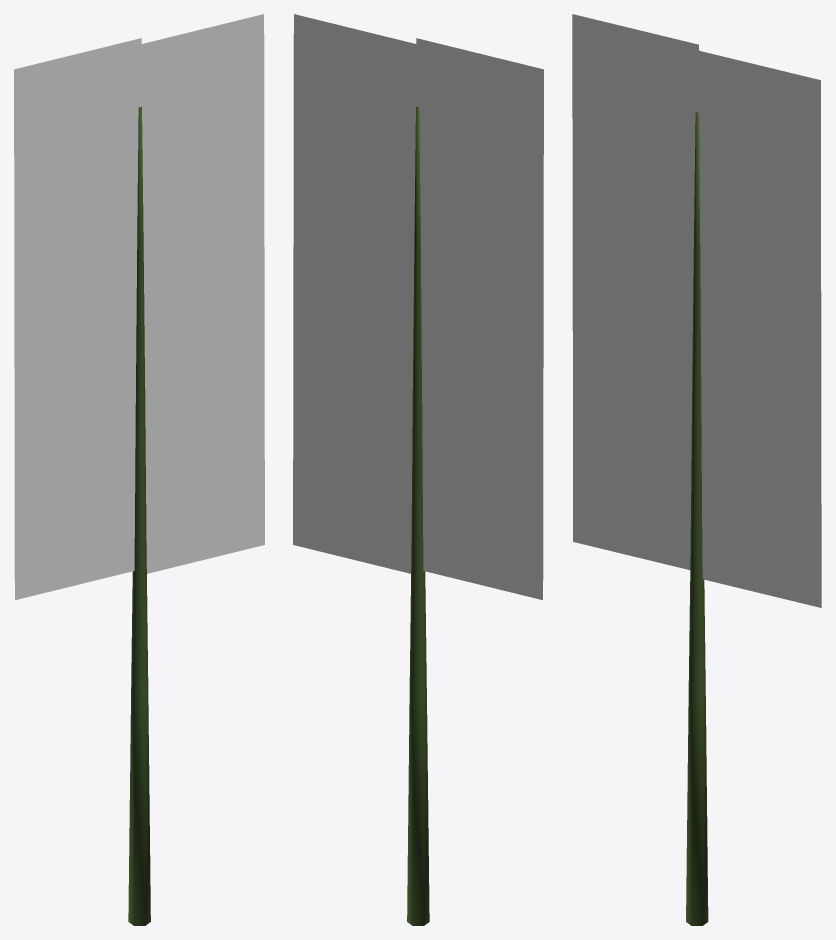
Rendered from krzak test.fbx.
The picture shows the model from 3 angles, left to right: view 1: azimuth 30°, elevation 25°; view 2: azimuth 150°, elevation 25°; view 3: azimuth 330°, elevation 25°; orthographic projection.
Visible parts, largest first — view 1: Plane.024; view 2: Plane.024; view 3: Plane.024.
Part boxes in pixels (x1,y1,x2,y2): Plane.024: [14, 14, 264, 925]; Plane.024: [293, 14, 543, 925]; Plane.024: [572, 14, 821, 925].
Bounding box in the file's own units: 0.6808 × 0.0529 × 2.29.
